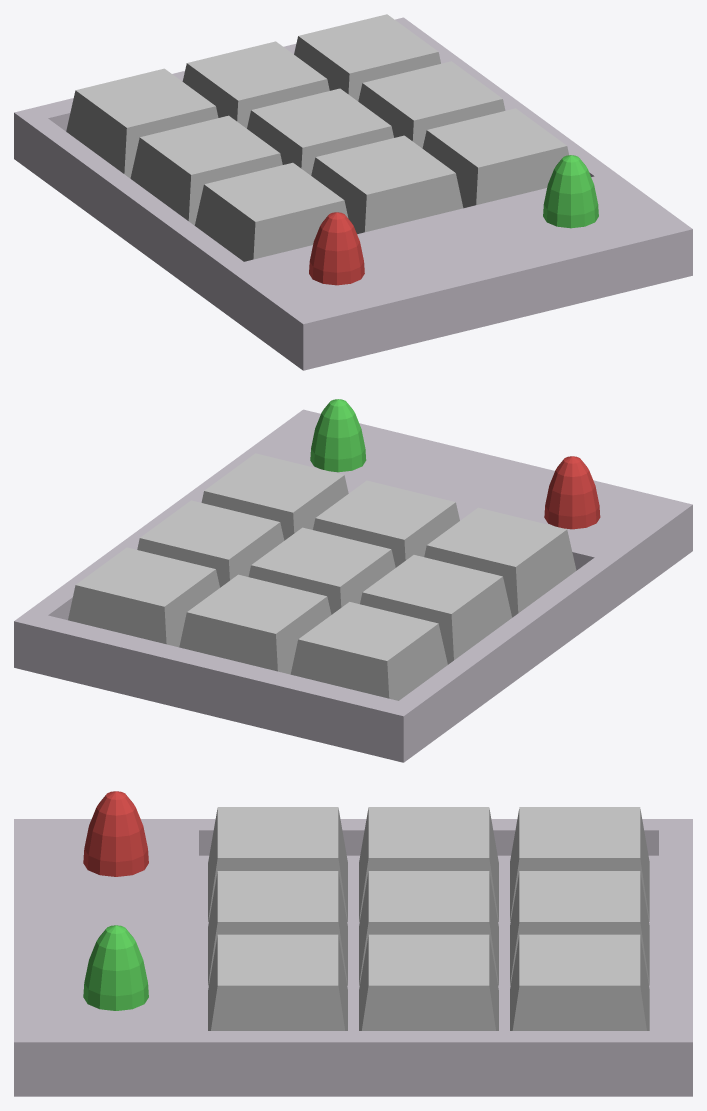
Rendered from NineNumberBtn.fbx.
3 renders of one model, top to bottom at view 1: azimuth 30°, elevation 25°; view 2: azimuth 150°, elevation 25°; view 3: azimuth 270°, elevation 25°, orthographic. The views are drawn at different scales.
Parts seen in each view (by area): view 1: Body, B1, B2, B3, B4, B7, B6, B5, B8, B9, LampRed, LampGreen; view 2: Body, B7, B9, B8, B1, B4, B3, B5, B2, B6, LampRed, LampGreen; view 3: Body, B3, B6, B9, B1, B2, B4, B5, B7, B8, LampGreen, LampRed.
Boxes of the visible parts, left/top/right/bottom form: Body: left=14, top=17, right=692, bottom=370; B1: left=194, top=162, right=348, bottom=261; B2: left=311, top=135, right=463, bottom=234; B3: left=422, top=108, right=568, bottom=208; B4: left=130, top=115, right=282, bottom=225; B7: left=66, top=68, right=218, bottom=178; B6: left=358, top=61, right=505, bottom=148; B5: left=247, top=88, right=393, bottom=175; B8: left=182, top=41, right=329, bottom=128; B9: left=294, top=14, right=440, bottom=101; LampRed: left=309, top=212, right=364, bottom=285; LampGreen: left=543, top=155, right=598, bottom=228; Body: left=14, top=409, right=692, bottom=762; B7: left=290, top=602, right=447, bottom=700; B9: left=68, top=547, right=219, bottom=647; B8: left=179, top=574, right=331, bottom=674; B1: left=424, top=507, right=576, bottom=617; B4: left=360, top=555, right=512, bottom=664; B3: left=201, top=453, right=348, bottom=540; B5: left=248, top=527, right=395, bottom=614; B2: left=313, top=480, right=459, bottom=567; B6: left=137, top=500, right=284, bottom=587; LampRed: left=544, top=456, right=600, bottom=529; LampGreen: left=310, top=399, right=366, bottom=472; Body: left=14, top=819, right=692, bottom=1096; B3: left=208, top=934, right=347, bottom=1030; B6: left=359, top=934, right=498, bottom=1030; B9: left=510, top=934, right=649, bottom=1030; B1: left=208, top=807, right=347, bottom=921; B2: left=208, top=871, right=347, bottom=985; B4: left=359, top=807, right=498, bottom=921; B5: left=359, top=871, right=498, bottom=985; B7: left=510, top=807, right=649, bottom=921; B8: left=510, top=871, right=649, bottom=985; LampGreen: left=83, top=925, right=148, bottom=1010; LampRed: left=83, top=791, right=148, bottom=876.
Bounding box in the file's own units: 70 × 18.47 × 90.
